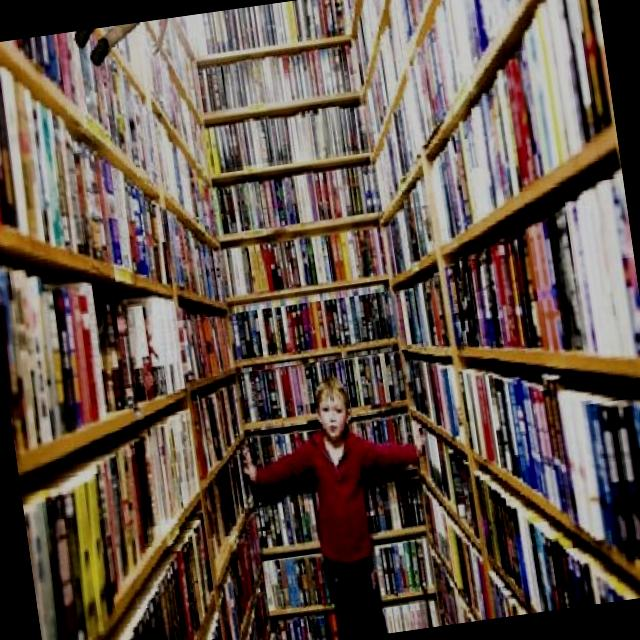Person: (65, 17, 181, 74)
